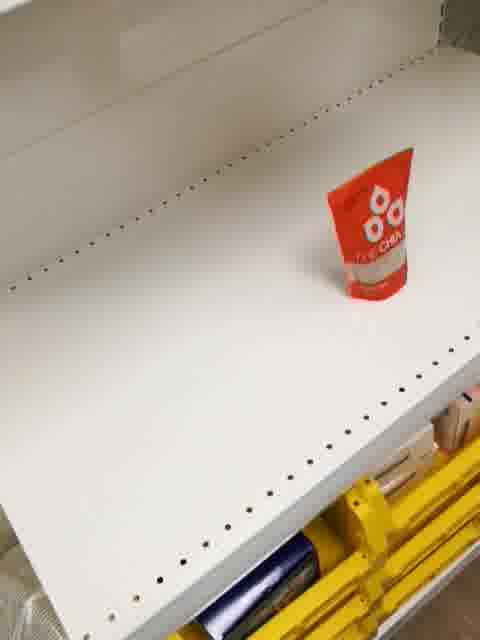whitechia: (325, 143, 418, 304)
